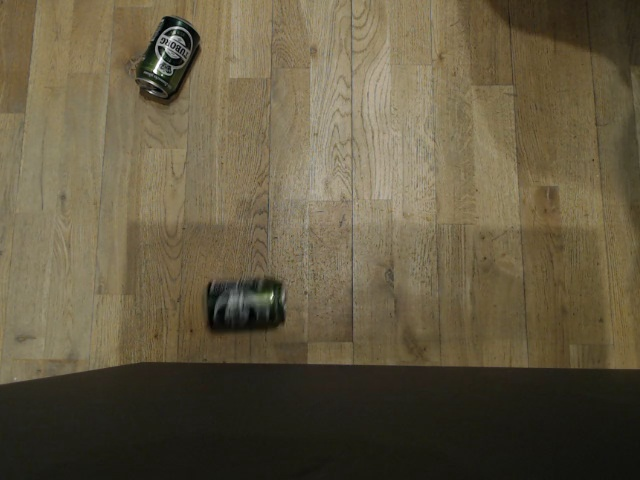beer: (132, 13, 202, 100), (202, 274, 289, 332)
